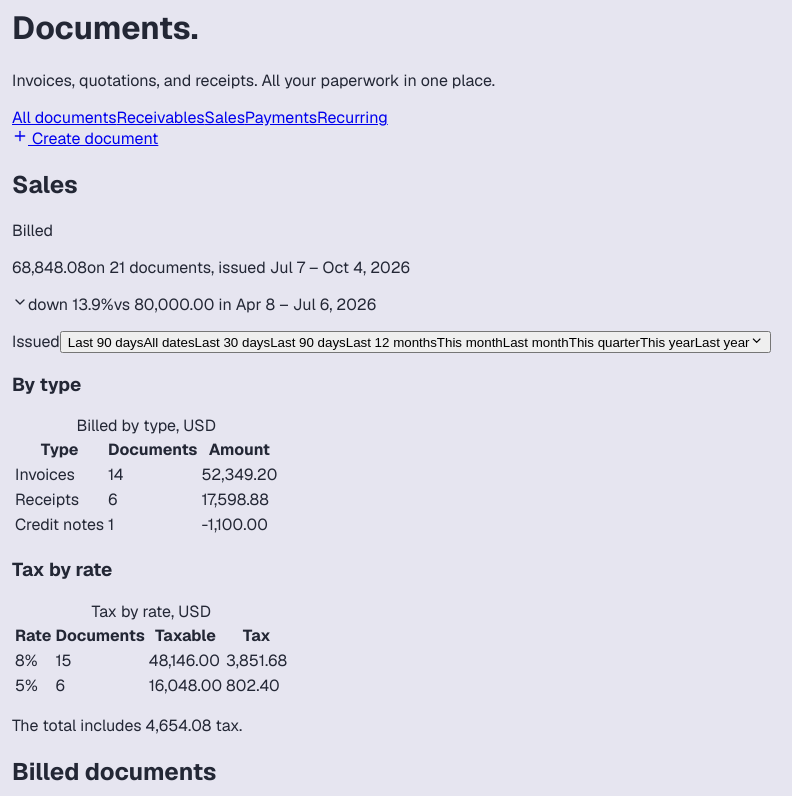
Test case: shows a fall in rust, and no change from a period with nothing billed
Check: the element showing "down 13.9%vs 80,000.00 in Apr 8 – Jul 6, 2026" is shown, box [12, 294, 376, 315]
Check: the element showing "down 13.9%" is shown, box [12, 294, 114, 315]
Click the dropdown: (415, 342) [60, 331, 771, 353]
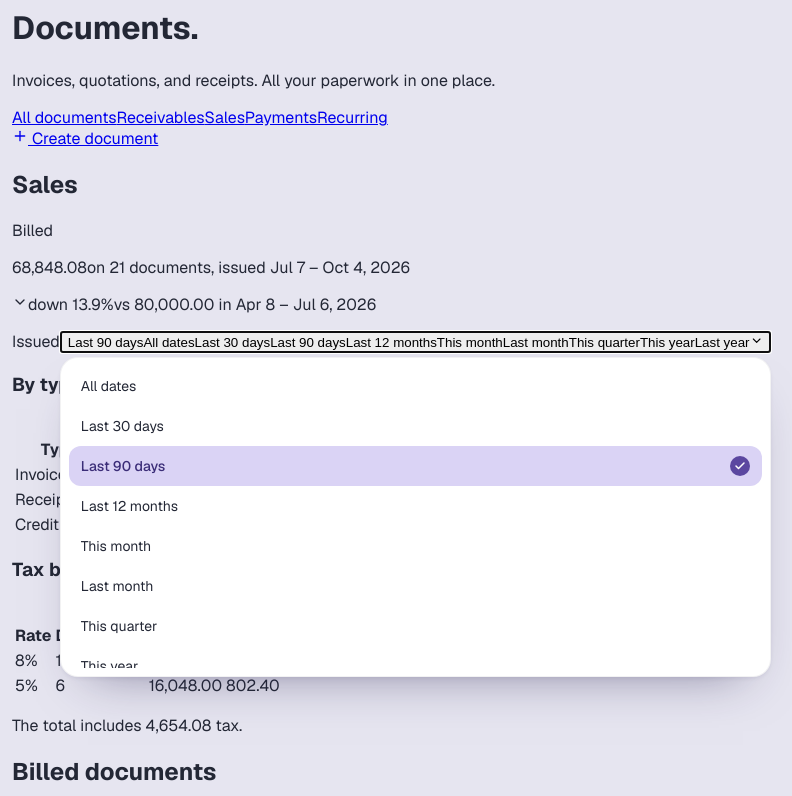
Click the option "Last 30 days": (122, 426) [81, 417, 164, 435]
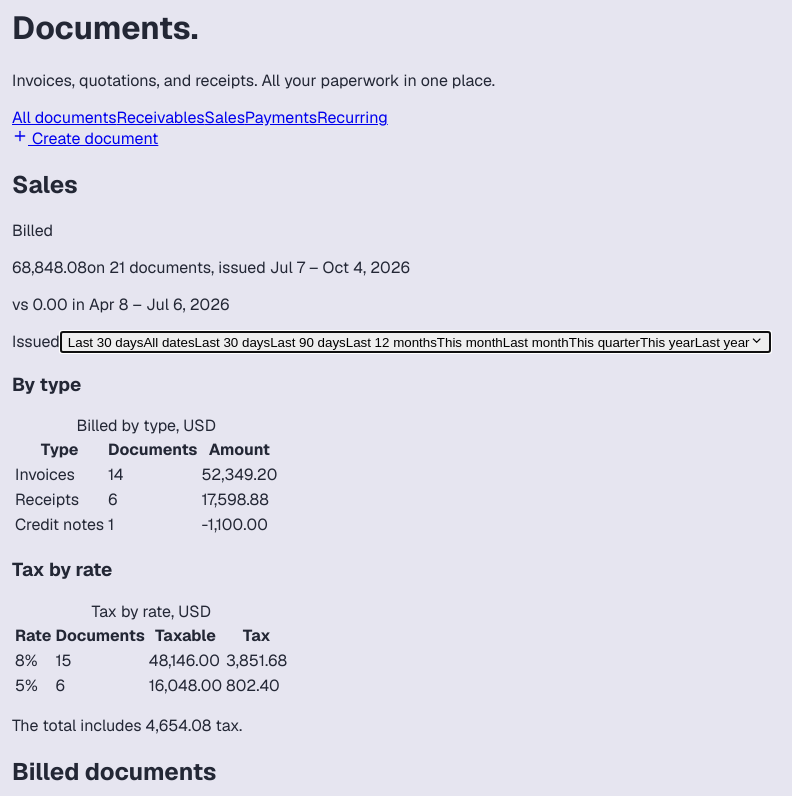
Check: the element showing "vs 0.00 in Apr 8 – Jul 6, 2026" is shown, box [12, 294, 230, 315]
